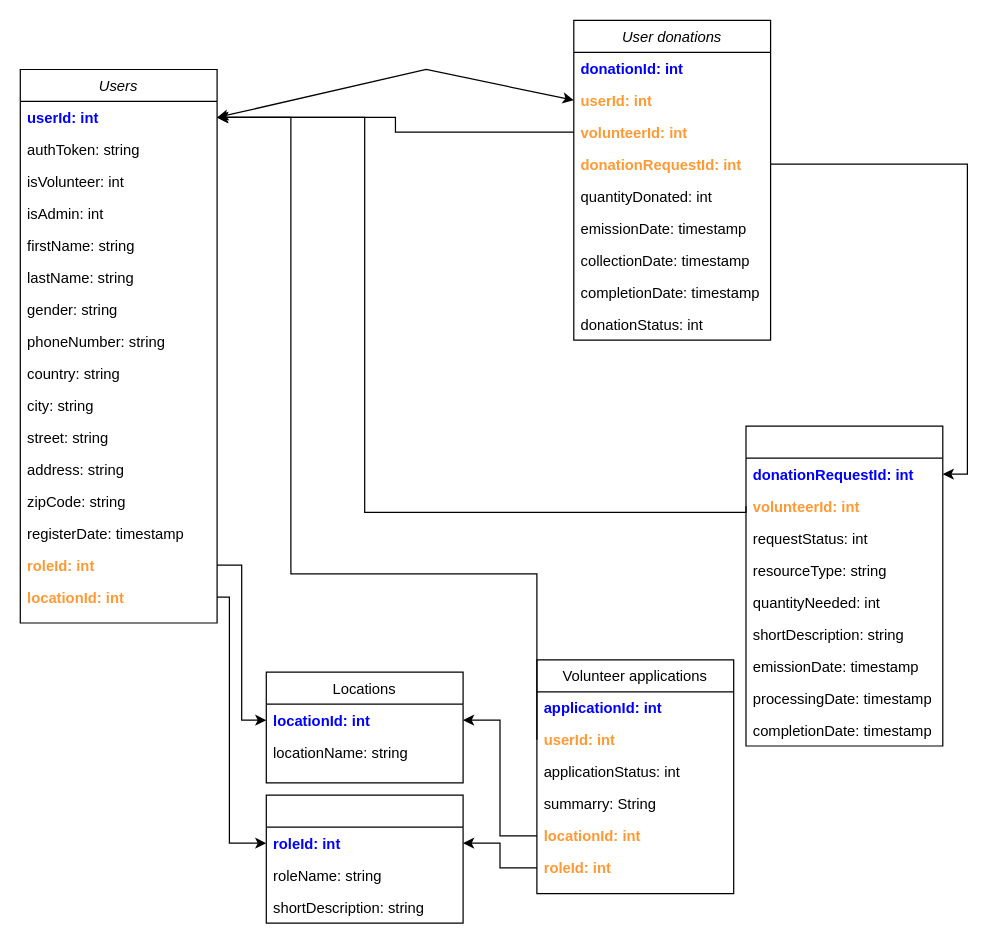
The diagram is 988 pixels wide and 943 high, and some of its shapes have lost their labels. Here are the shapes that lost their labels. From the top down, the box of each, then its label:
(745, 425, 943, 746): RequestForDonations
(265, 794, 463, 923): Volunteer roles
